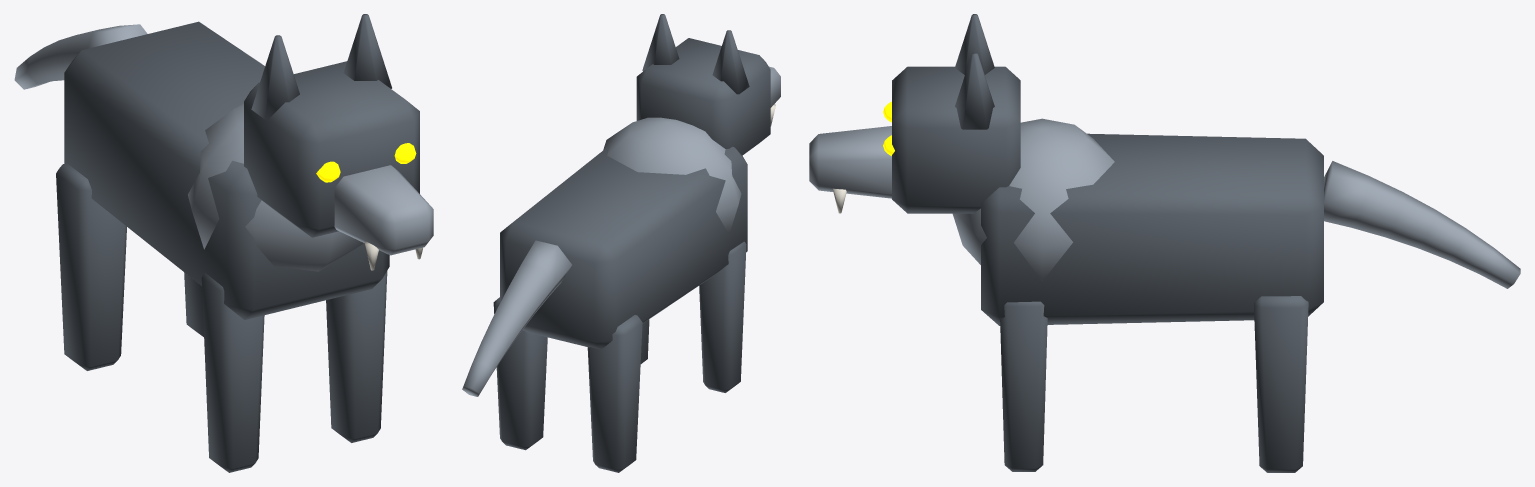
The model's file is wolf.glb.
3 views of the same model, side by side, from view 1: azimuth 30°, elevation 25°; view 2: azimuth 150°, elevation 25°; view 3: azimuth 270°, elevation 25° (orthographic). The views are drawn at different scales.
Visible parts, largest first — view 1: Body, Head, LeftLeg, LeftArm, RightArm, Tail, RightLeg; view 2: Body, Head, LeftLeg, Tail, LeftArm, RightLeg; view 3: Body, Head, Tail, RightLeg, RightArm.
Part boxes in pixels (box(x1,y1,x2,y2)): Body: box(64, 21, 389, 319); Head: box(244, 14, 433, 270); LeftLeg: box(56, 163, 126, 370); LeftArm: box(201, 273, 264, 472); RightArm: box(326, 271, 387, 442); Tail: box(14, 24, 147, 89); RightLeg: box(184, 272, 203, 336); Body: box(500, 117, 747, 349); Head: box(636, 14, 780, 155); LeftLeg: box(587, 315, 642, 472); Tail: box(462, 240, 571, 396); LeftArm: box(699, 241, 746, 392); RightLeg: box(493, 297, 547, 450); Body: box(952, 118, 1323, 325); Head: box(809, 14, 1020, 213); Tail: box(1324, 161, 1520, 288); RightLeg: box(1254, 296, 1308, 472); RightArm: box(1000, 301, 1047, 471).
Size of the model in its own units: 0.64 by 1.46 by 2.32.
